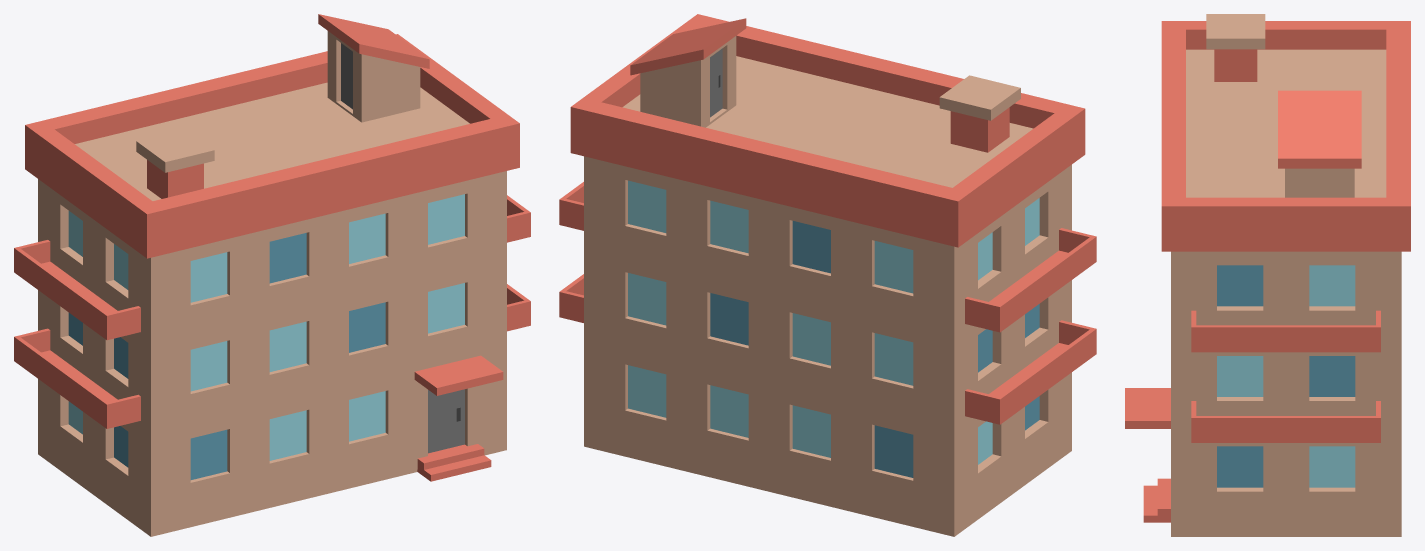
The model's file is House 2.3.fbx.
The picture shows the model from 3 angles, left to right: view 1: azimuth 30°, elevation 25°; view 2: azimuth 150°, elevation 25°; view 3: azimuth 270°, elevation 25°; orthographic projection. The views are drawn at different scales.
Parts seen in each view (by area): view 1: House_Type2_3; view 2: House_Type2_3; view 3: House_Type2_3.
Part boxes in pixels (left/top/right/bottom): House_Type2_3: left=14, top=14, right=530, bottom=536; House_Type2_3: left=559, top=14, right=1096, bottom=536; House_Type2_3: left=1125, top=14, right=1410, bottom=536.
Bounding box in the file's own units: 1000 × 881 × 572.
